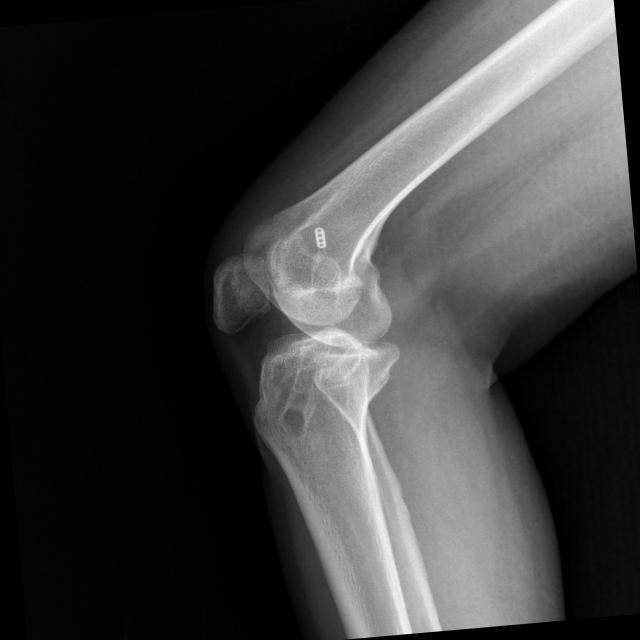Knee: (208, 238, 406, 421)
